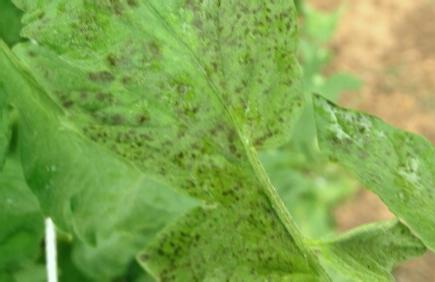Tomato Septoria leaf spot: (13, 0, 289, 186), (117, 204, 402, 282), (319, 87, 435, 263)
